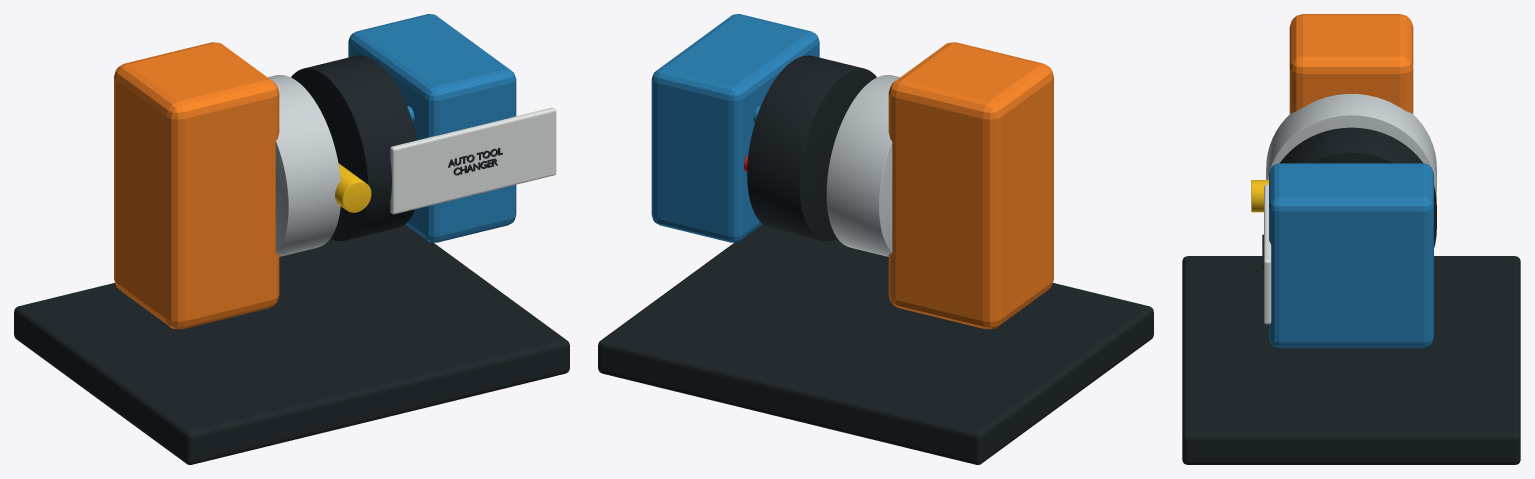
Rendered from automatic_tool_changer.glb.
3 renders of one model, left to right at view 1: azimuth 30°, elevation 25°; view 2: azimuth 150°, elevation 25°; view 3: azimuth 270°, elevation 25°, orthographic. The views are drawn at different scales.
Visible parts, largest first — view 1: BASE, ROBOT_WRIST_STUB, TOOL_SIDE_PLATE, TOOL_COUPLER, NAMEPLATE, KIN_MASTER_COUPLER, LOCKING_PISTON, LABEL; view 2: BASE, ROBOT_WRIST_STUB, TOOL_SIDE_PLATE, TOOL_COUPLER, KIN_MASTER_COUPLER; view 3: BASE, TOOL_SIDE_PLATE, ROBOT_WRIST_STUB, KIN_MASTER_COUPLER, TOOL_COUPLER, NAMEPLATE, LOCKING_PISTON.
Part boxes in pixels (box(x1,y1,x2,y2)): BASE: box(14, 224, 569, 464); ROBOT_WRIST_STUB: box(114, 42, 279, 329); TOOL_SIDE_PLATE: box(348, 14, 516, 242); TOOL_COUPLER: box(291, 55, 416, 241); NAMEPLATE: box(390, 107, 556, 214); KIN_MASTER_COUPLER: box(268, 75, 340, 256); LOCKING_PISTON: box(335, 163, 371, 212); LABEL: box(448, 147, 502, 175); BASE: box(598, 224, 1153, 464); ROBOT_WRIST_STUB: box(888, 42, 1053, 329); TOOL_SIDE_PLATE: box(651, 14, 819, 242); TOOL_COUPLER: box(747, 55, 876, 241); KIN_MASTER_COUPLER: box(826, 75, 899, 256); BASE: box(1182, 256, 1520, 464); TOOL_SIDE_PLATE: box(1269, 163, 1433, 348); ROBOT_WRIST_STUB: box(1289, 14, 1413, 113); KIN_MASTER_COUPLER: box(1266, 94, 1436, 198); TOOL_COUPLER: box(1280, 127, 1436, 247); NAMEPLATE: box(1264, 184, 1271, 324); LOCKING_PISTON: box(1251, 180, 1268, 212).
Bounding box in the file's own units: 1.56 × 1.11 × 1.15.
